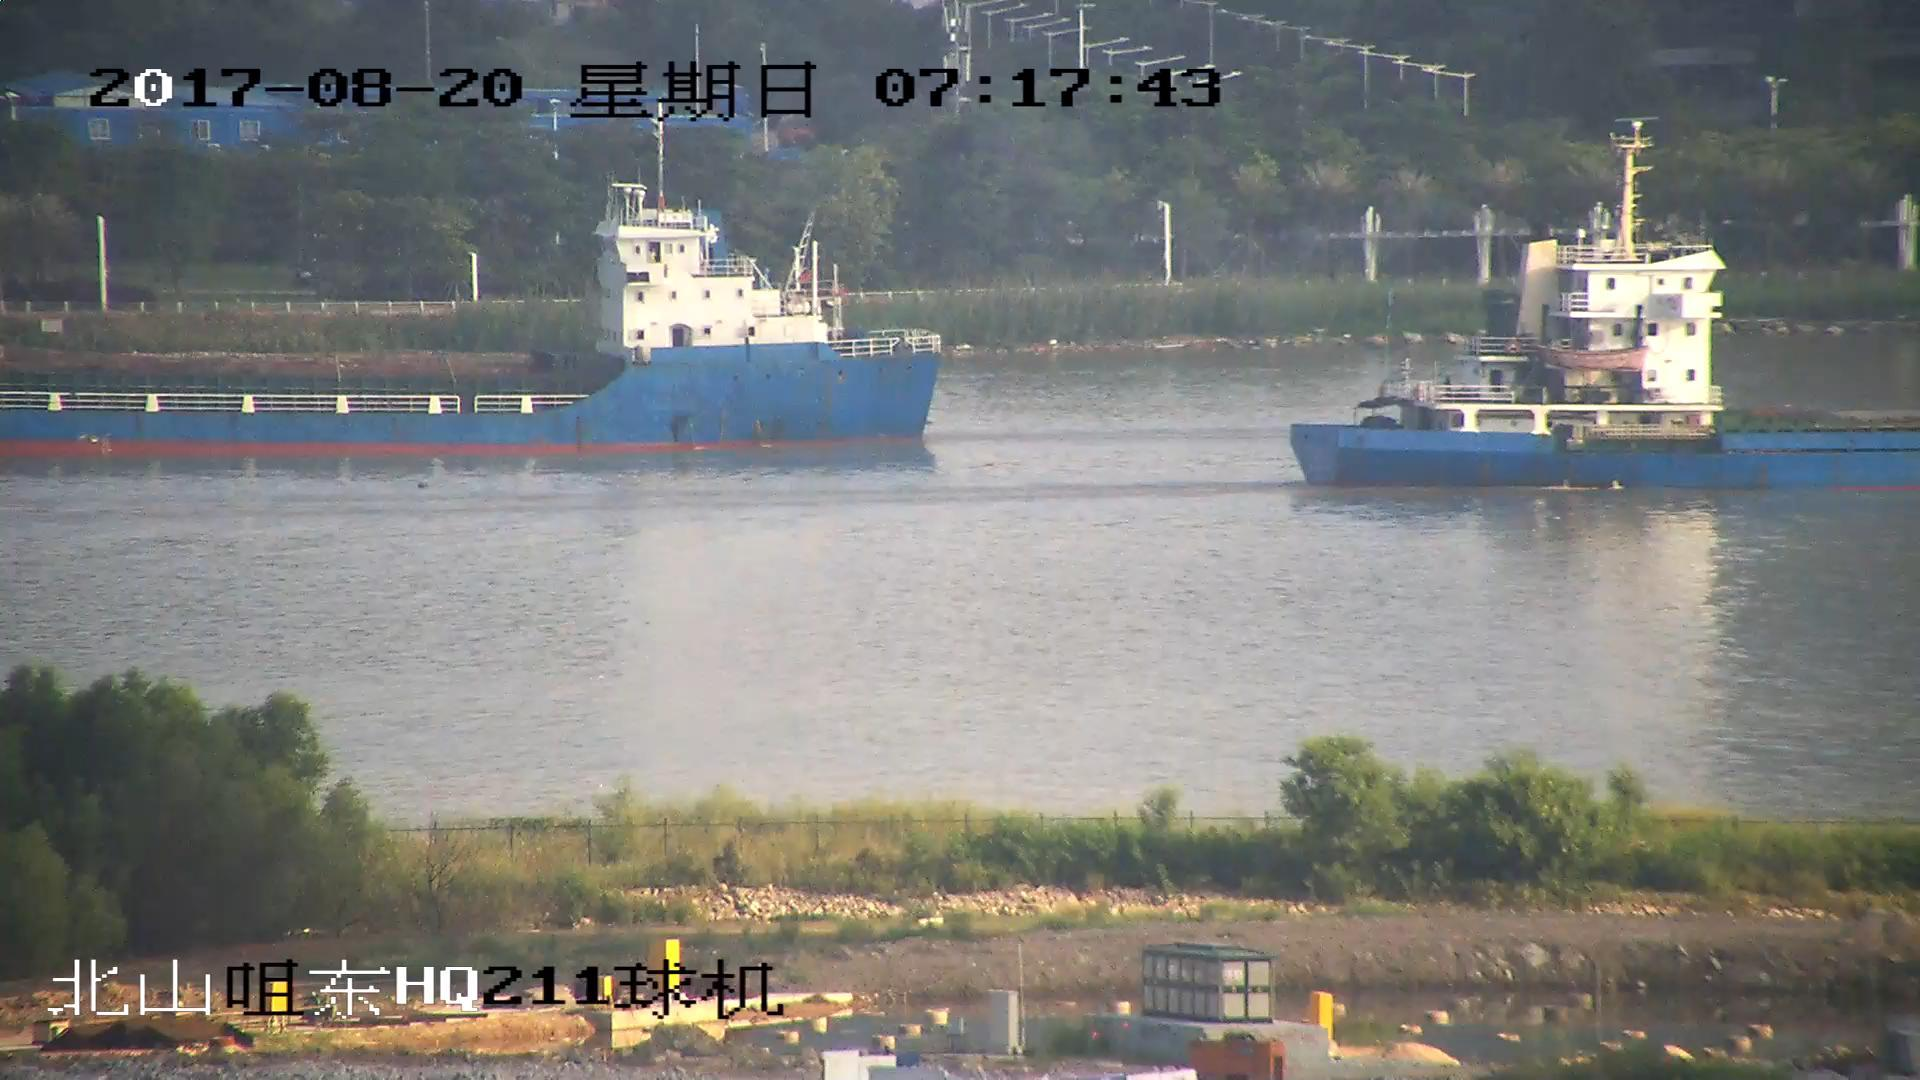Ship: (3, 185, 936, 458), (1284, 183, 1920, 491)
